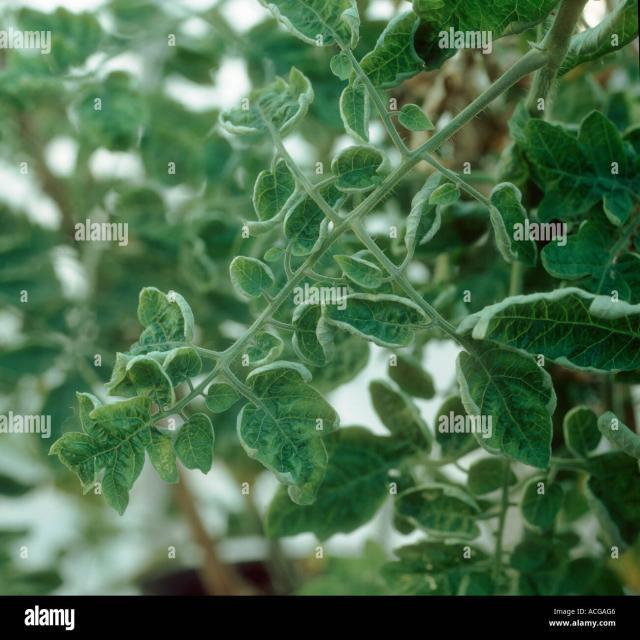Yellow Curl Virus: (456, 288, 640, 376), (237, 361, 339, 504), (456, 340, 560, 472), (320, 293, 430, 350), (400, 168, 460, 255), (256, 0, 358, 49), (240, 160, 304, 238), (485, 175, 538, 268), (133, 285, 199, 346), (331, 145, 393, 201), (169, 412, 222, 473), (124, 356, 180, 412), (339, 82, 382, 150), (330, 250, 390, 290), (224, 254, 276, 298), (244, 327, 290, 365)
